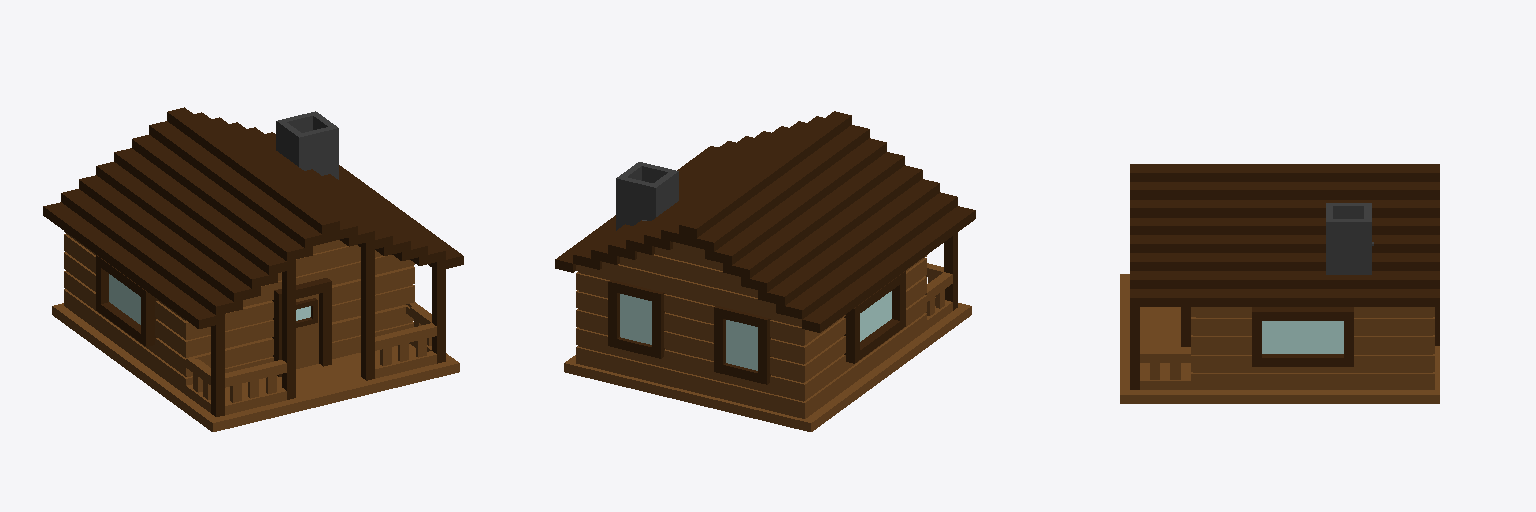
The picture shows the model from 3 angles: view 1: azimuth 30°, elevation 25°; view 2: azimuth 150°, elevation 25°; view 3: azimuth 270°, elevation 25°; orthographic projection.
Visible parts, largest first — view 1: Shed; view 2: Shed; view 3: Shed.
Boxes of the visible parts, x1,y1,x2,y2 form: Shed: [43, 107, 463, 431]; Shed: [555, 111, 975, 431]; Shed: [1120, 164, 1439, 403].
Bounding box in the file's own units: 120 × 76 × 126.
Materials: 1 (1 with a texture image).